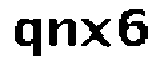6: (116, 6, 150, 50)
n: (46, 14, 79, 49)
q: (10, 16, 45, 60)
x: (80, 19, 112, 50)
